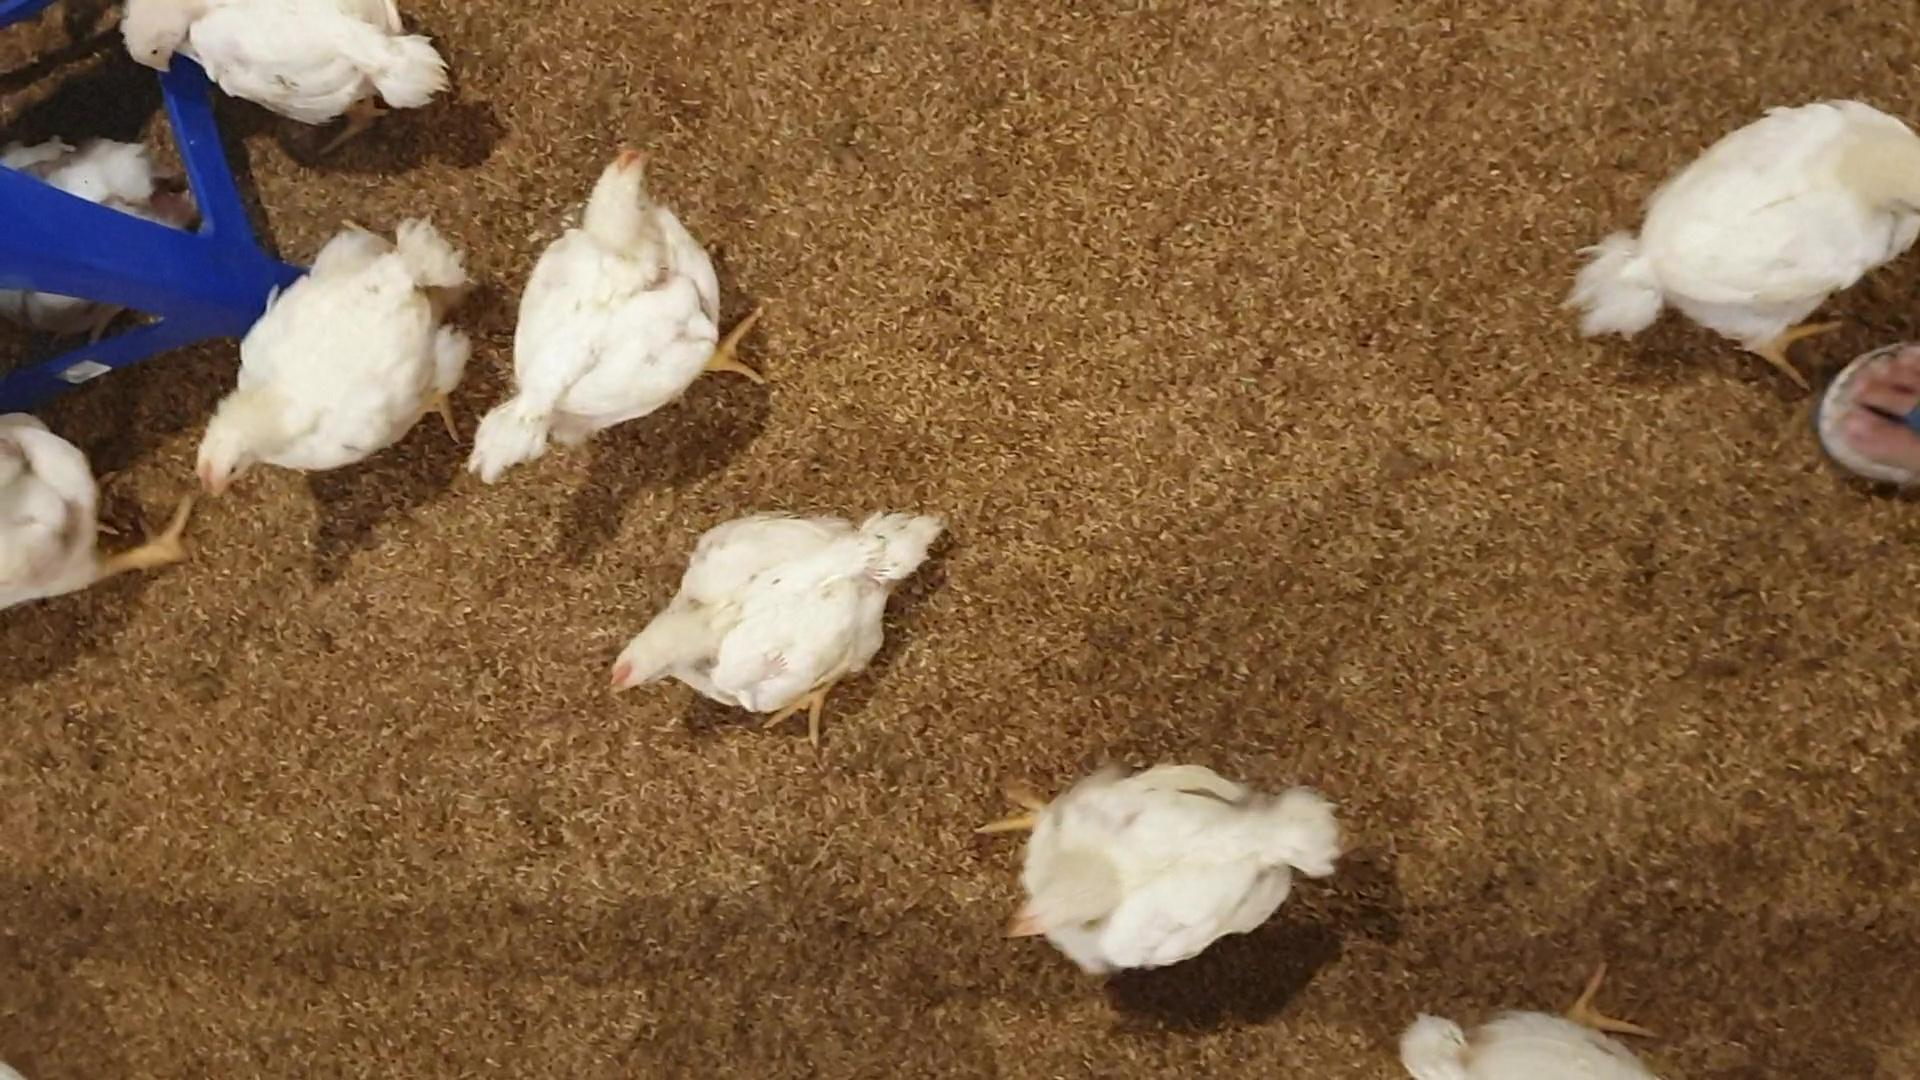Pollos: (607, 491, 953, 729), (202, 212, 477, 508), (1006, 756, 1340, 992), (513, 140, 728, 443), (1658, 96, 1920, 340), (108, 0, 455, 115)
